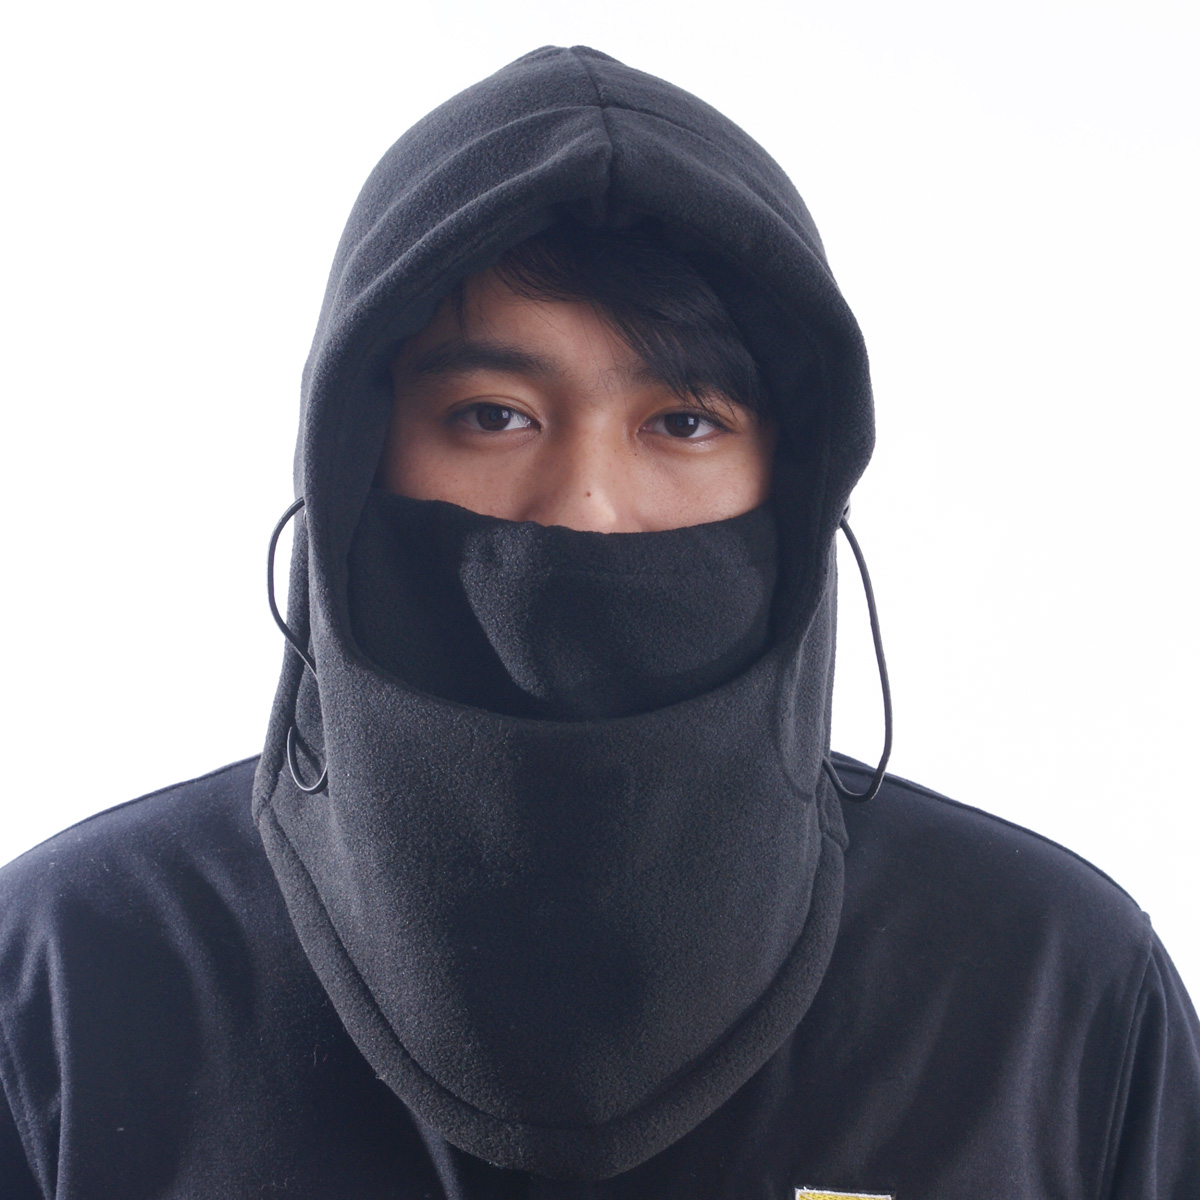face_mask: (375, 218, 777, 740)
